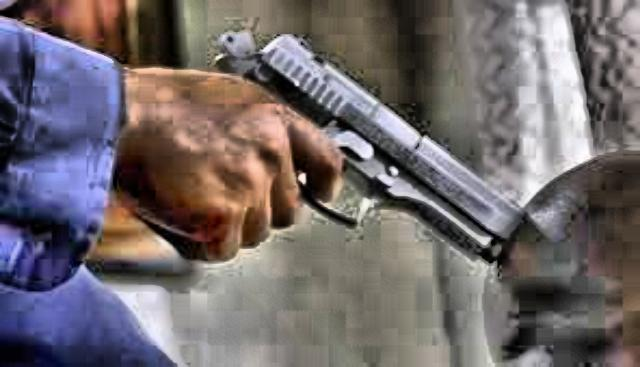pistol: (152, 24, 514, 264)
